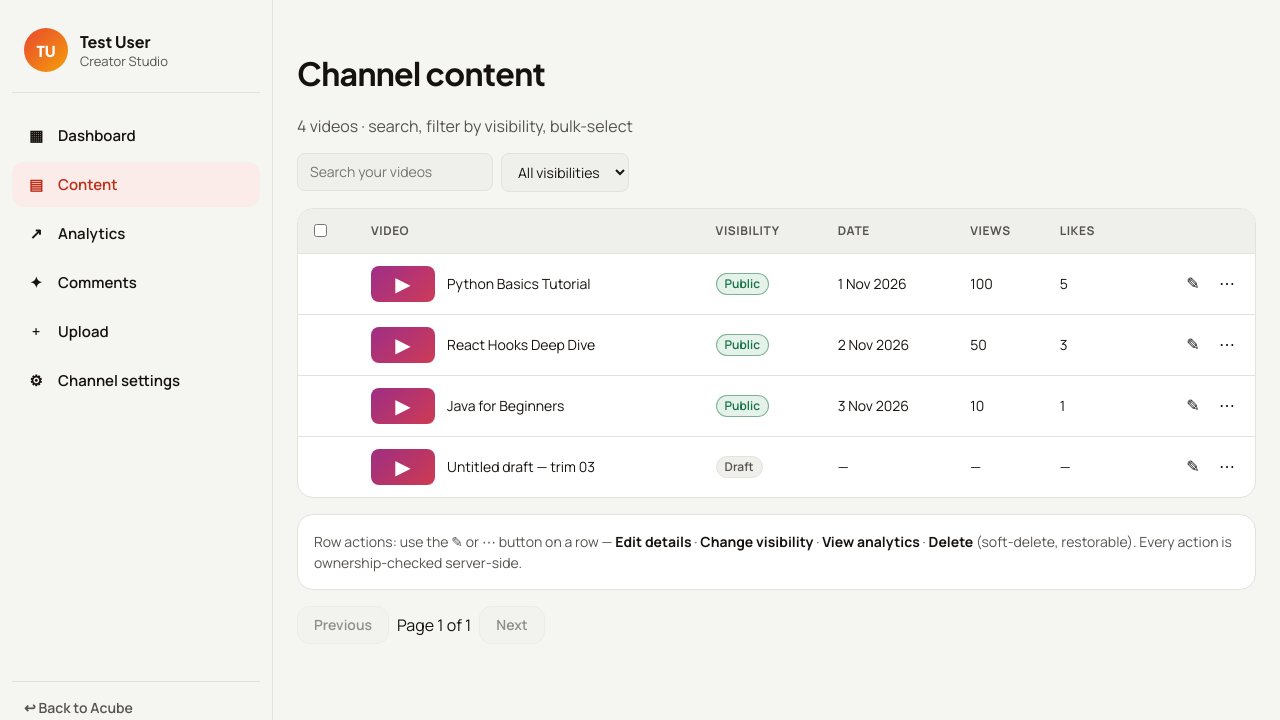
Test: C — Content › visibility filter shows only drafts
Expected: the link "Python Basics Tutorial" is shown, [447,274,591,293]
Select "Draft" in the dropdown named "Filter by visibility": (565, 172) [501,153,629,192]
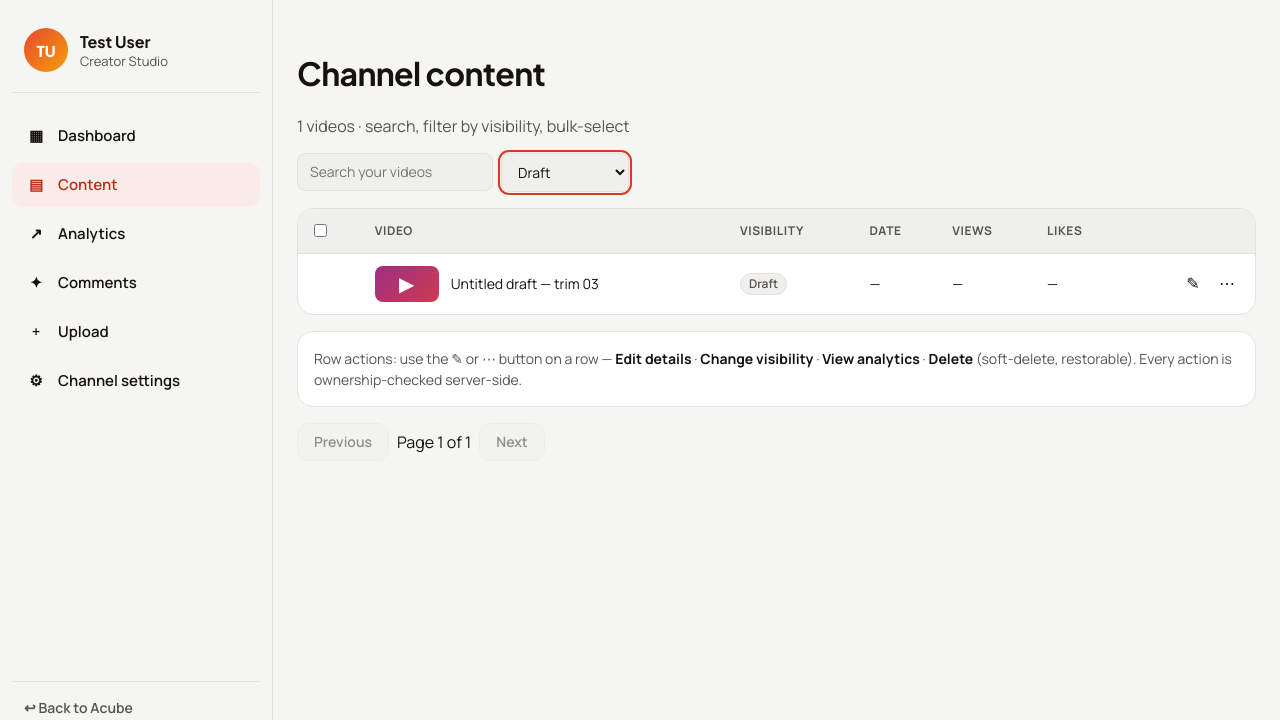
Expected: the link "Untitled draft — trim 03" is shown, [451,274,599,293]
Now the link "Python Basics Tutorial" is gone
